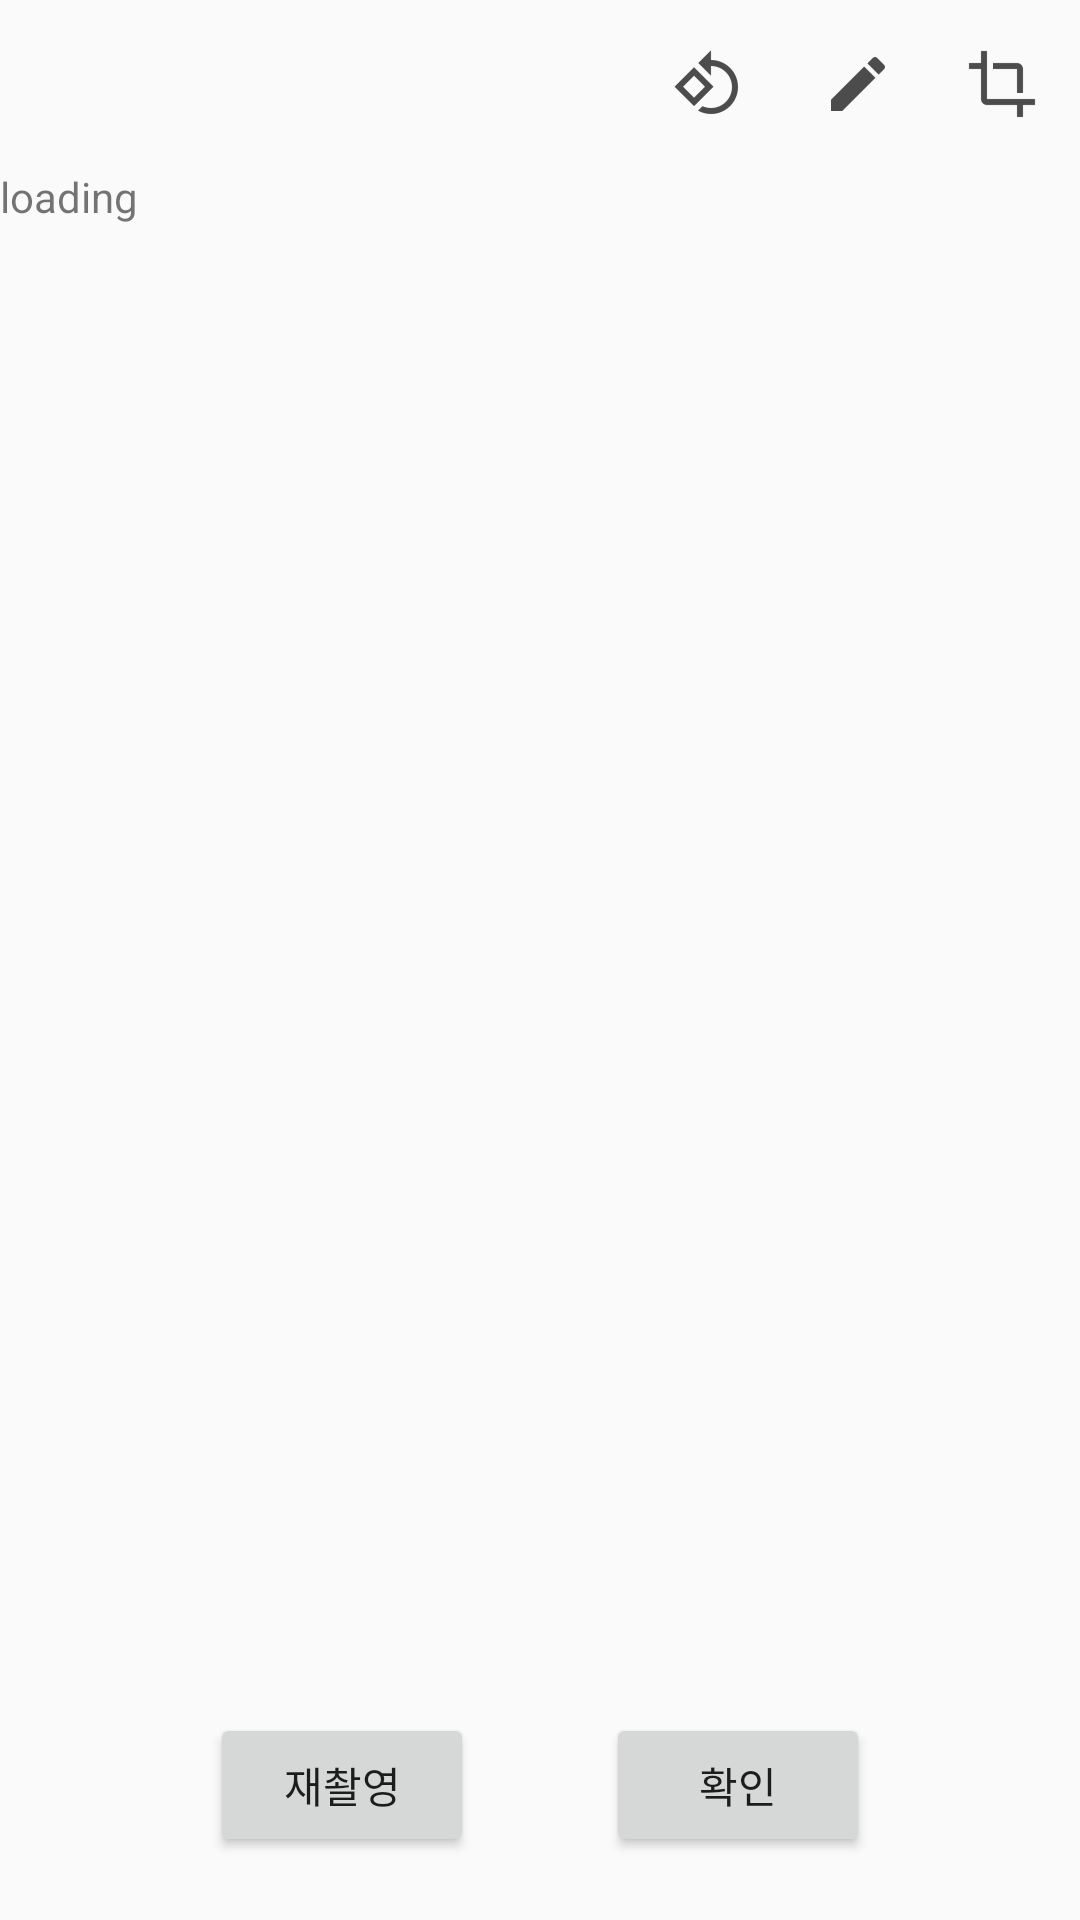

Where icons sit on this 1080px×1920px app screen, as bbox=(x1, y1, x2, y2):
crop: bbox=(969, 51, 1035, 117)
retouch: bbox=(831, 57, 885, 111)
rotate: bbox=(674, 50, 738, 114)
